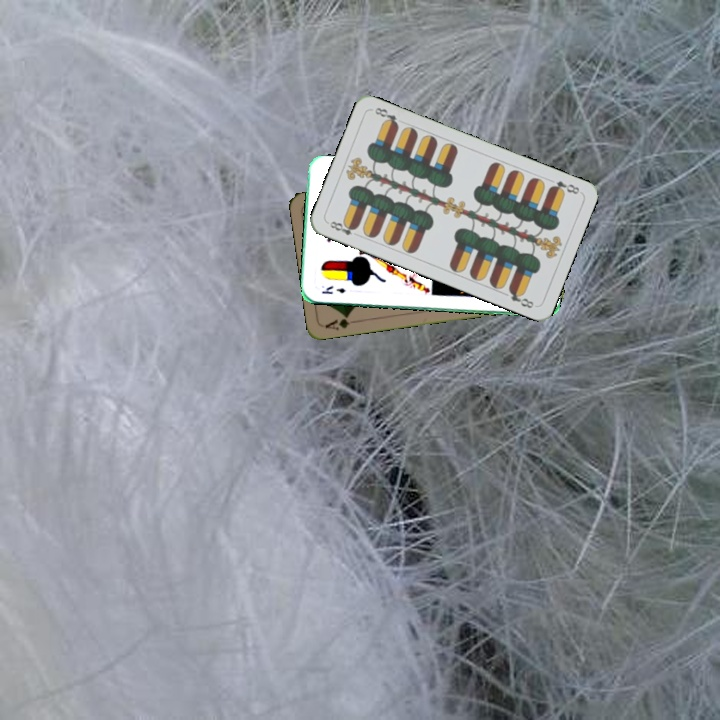E8: (324, 217, 362, 240), (545, 176, 582, 197)
EK: (317, 282, 348, 296)
GA: (321, 311, 362, 333)
